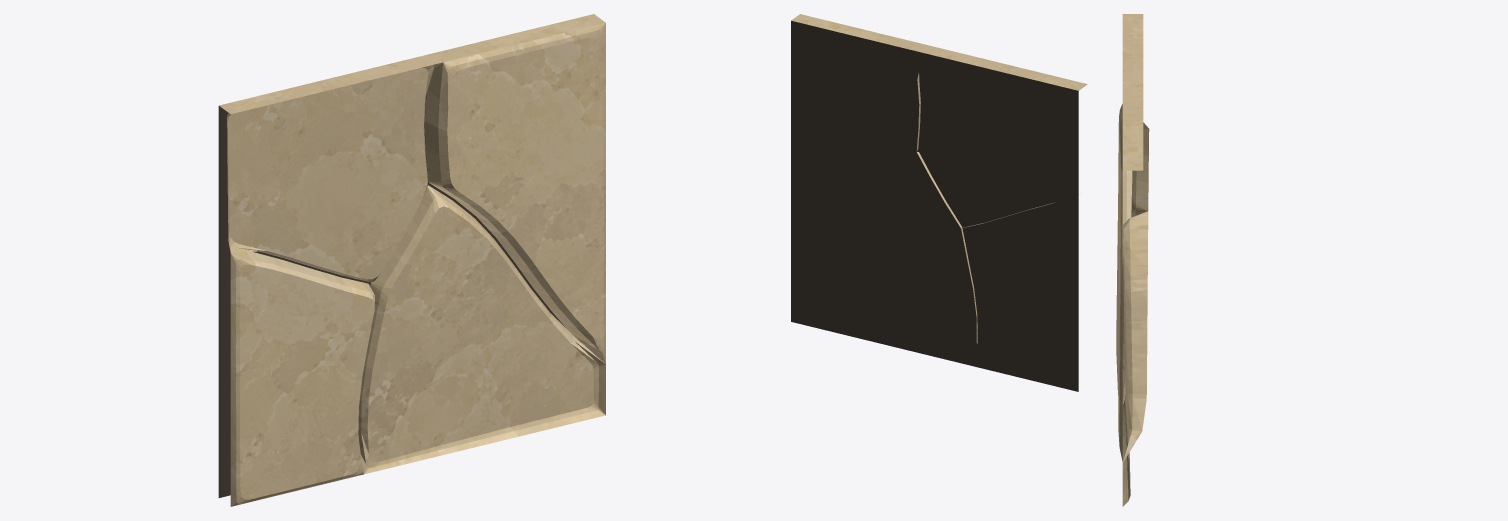
Rendered from ground_square_edge_07.glb.
3 views of the same model, side by side, from view 1: azimuth 30°, elevation 25°; view 2: azimuth 150°, elevation 25°; view 3: azimuth 270°, elevation 25° (orthographic). The views are drawn at different scales.
Parts seen in each view (by area): view 1: GroundSquareEdge07_Body; view 2: GroundSquareEdge07_Body; view 3: GroundSquareEdge07_Body.
Part boxes in pixels (x1,y1,x2,y2): GroundSquareEdge07_Body: (218,14,605,506); GroundSquareEdge07_Body: (791,14,1087,391); GroundSquareEdge07_Body: (1116,14,1149,506).
Size of the model in its own units: 1 by 1 by 1.02.
6 materials, 5 textured.
